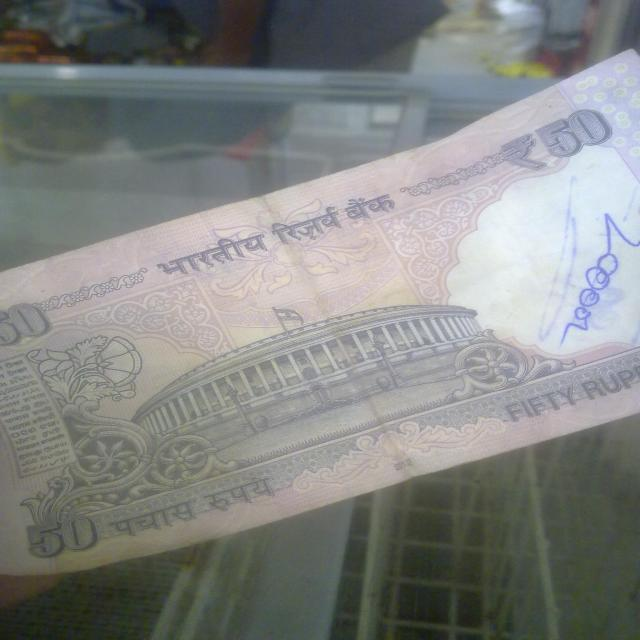50rs: (0, 47, 640, 577)
